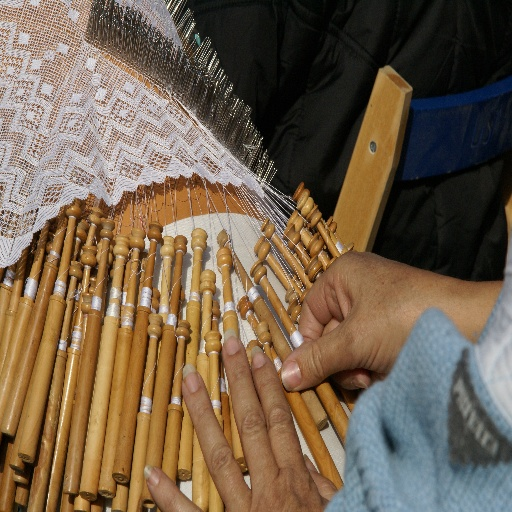hand: (141, 326, 338, 511), (288, 249, 427, 400)
